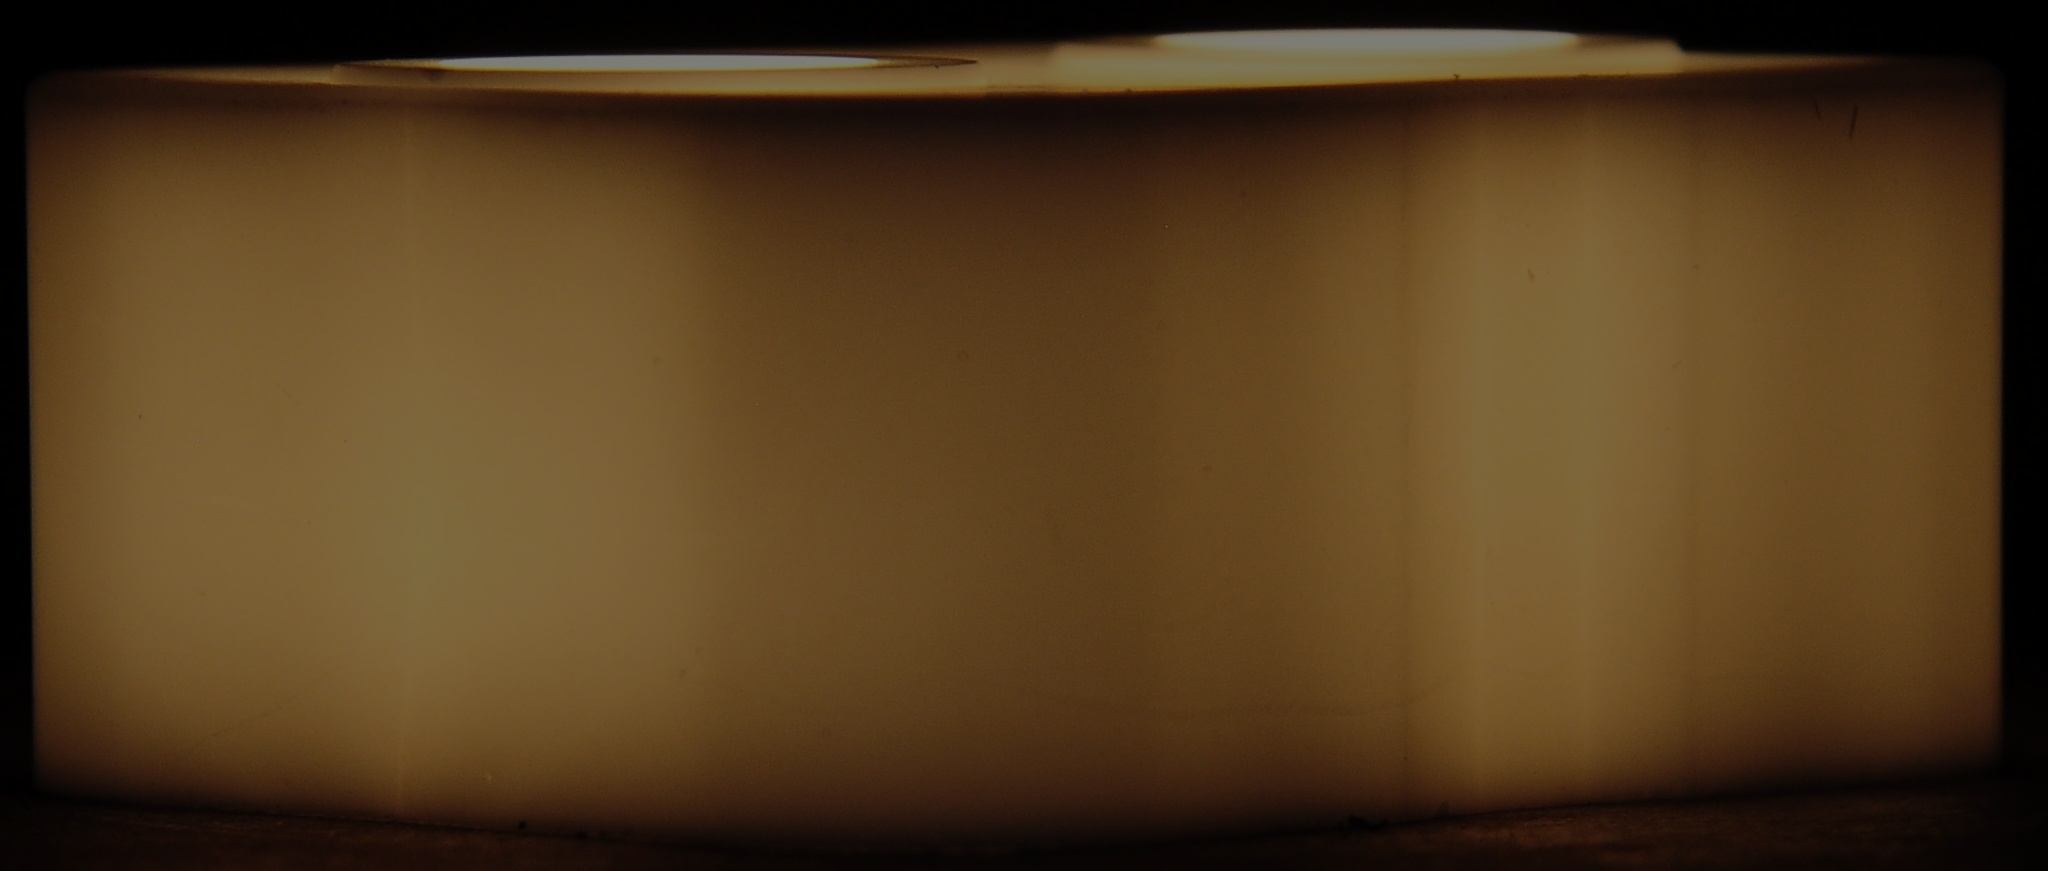flaw: (844, 659, 1556, 722)
hiatus: (405, 61, 455, 87)
protrusion: (1447, 59, 1469, 91), (927, 55, 947, 81)
